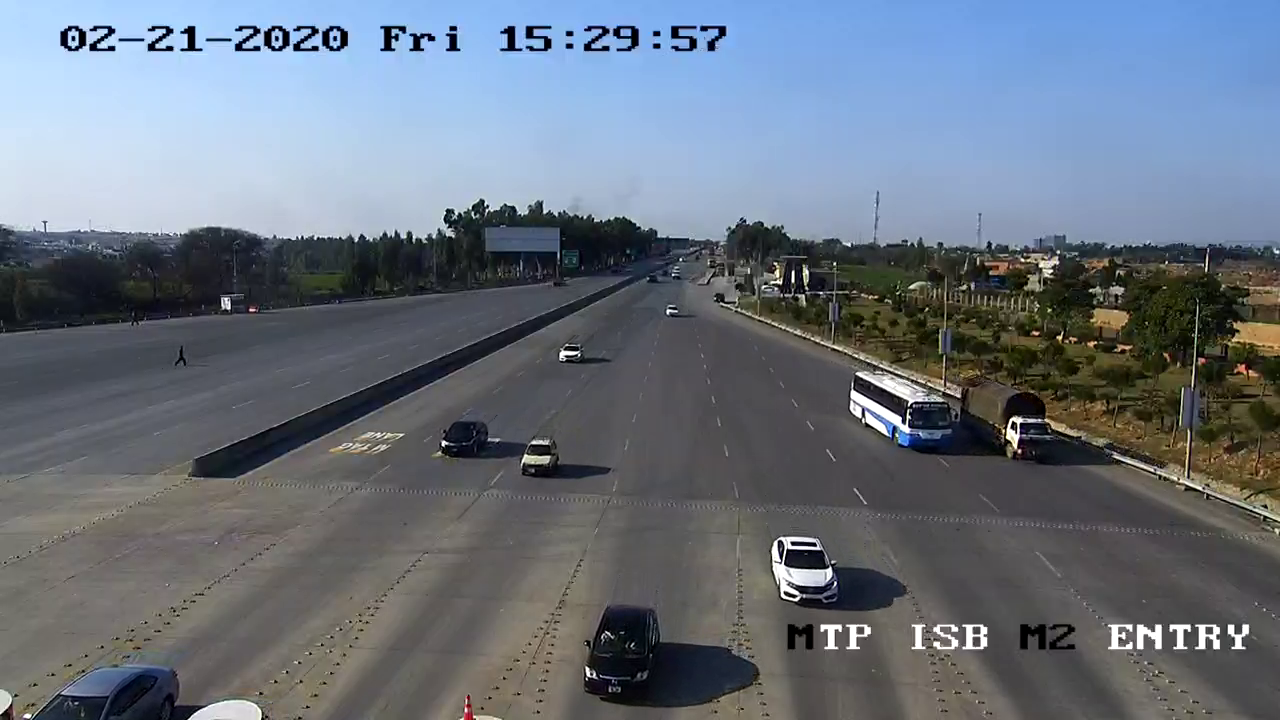f1: (566, 591, 671, 714), (763, 526, 849, 618), (508, 430, 572, 495), (431, 411, 497, 466)
f4: (846, 357, 955, 464)
f5: (952, 369, 1062, 471)
